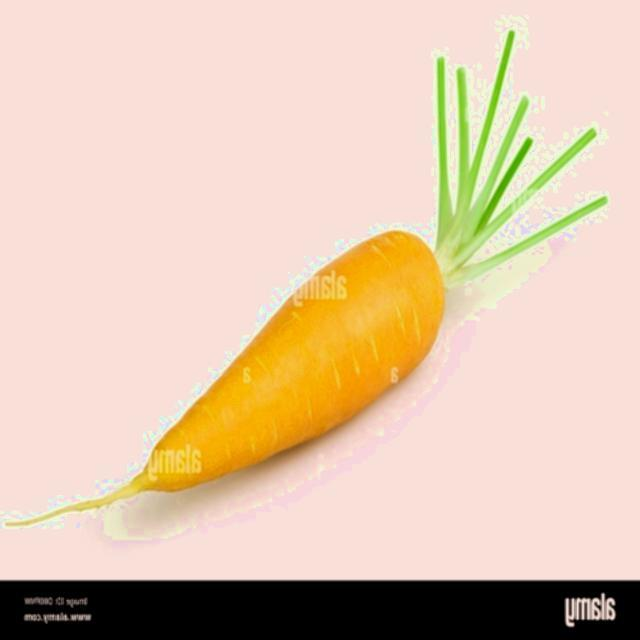carrot: (6, 31, 608, 528)
